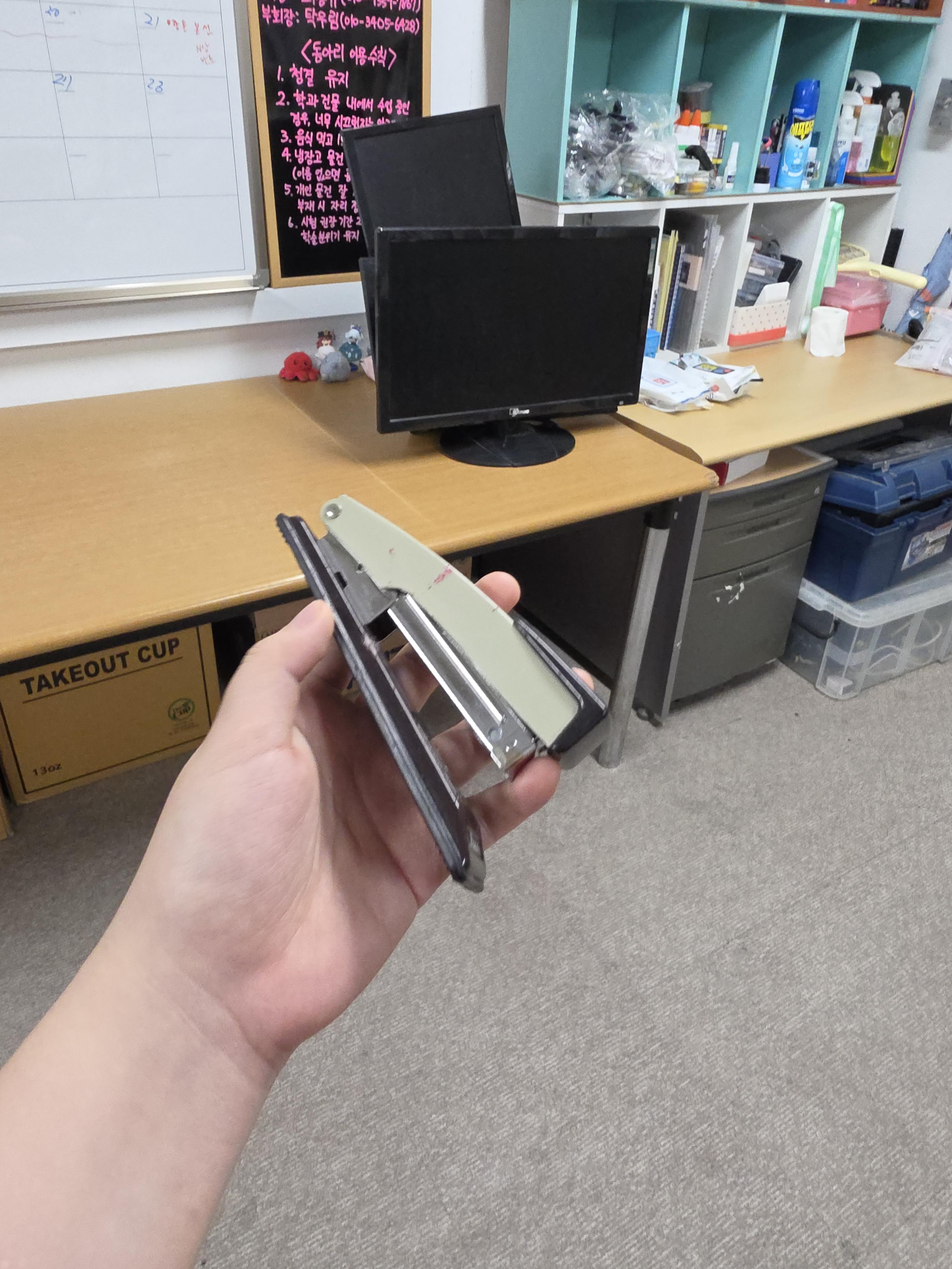stapler: (274, 494, 605, 892)
tissue: (728, 281, 791, 348), (804, 305, 849, 358)
